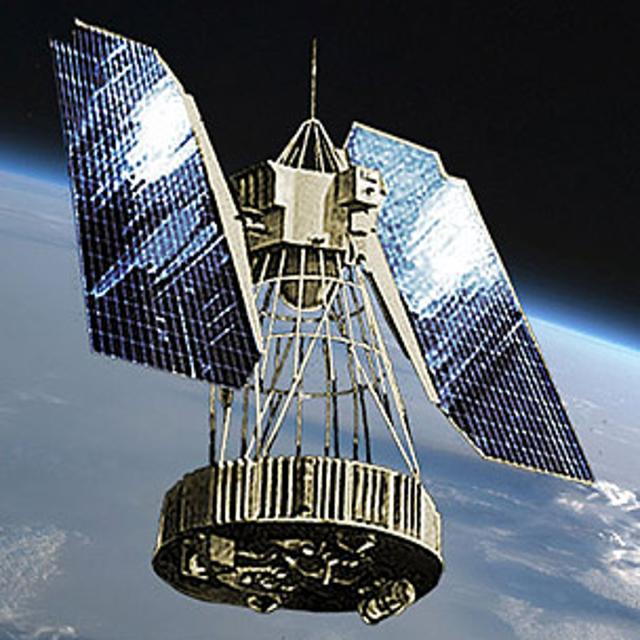satellite: (40, 0, 616, 635)
